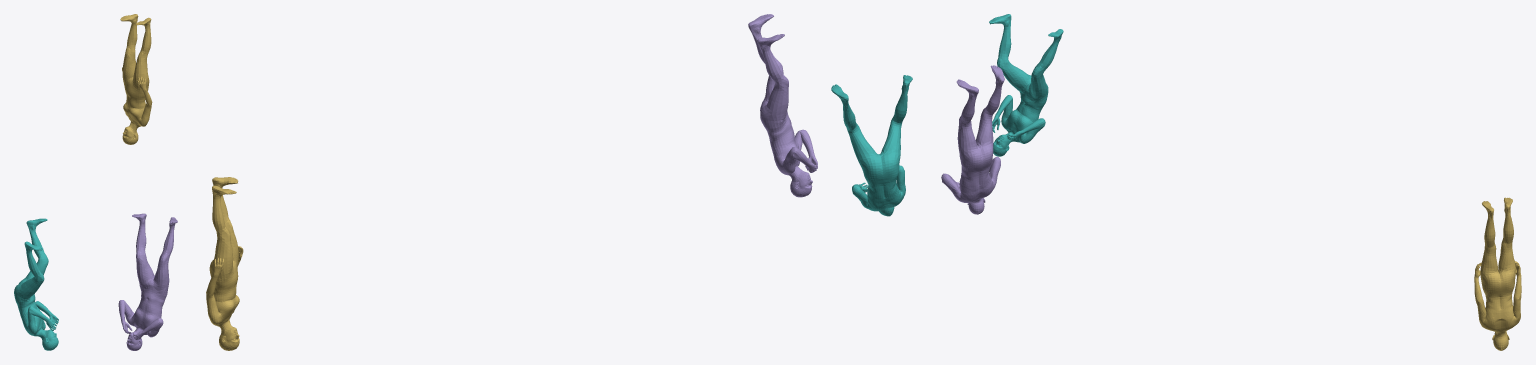
The model's file is all_people_native_world.glb.
The picture shows the model from 3 angles, left to right: view 1: azimuth 30°, elevation 25°; view 2: azimuth 150°, elevation 25°; view 3: azimuth 270°, elevation 25°; orthographic projection. The views are drawn at different scales.
Visible parts, largest first — view 1: persistent_id_2_slot_1, persistent_id_3_slot_0, persistent_id_1_slot_2; view 2: persistent_id_2_slot_1, persistent_id_1_slot_2, persistent_id_3_slot_0; view 3: persistent_id_3_slot_0, persistent_id_2_slot_1, persistent_id_1_slot_2.
Part boxes in pixels (<box>): persistent_id_2_slot_1: <box>118,213,177,350</box>; persistent_id_3_slot_0: <box>120,14,152,144</box>; persistent_id_1_slot_2: <box>14,218,58,350</box>; persistent_id_2_slot_1: <box>748,14,817,197</box>; persistent_id_1_slot_2: <box>831,75,912,216</box>; persistent_id_3_slot_0: <box>206,177,243,350</box>; persistent_id_3_slot_0: <box>1474,197,1521,350</box>; persistent_id_2_slot_1: <box>941,65,1004,214</box>; persistent_id_1_slot_2: <box>989,14,1063,156</box>.
Bounding box in the file's own units: 4.59 × 1.82 × 5.9.
